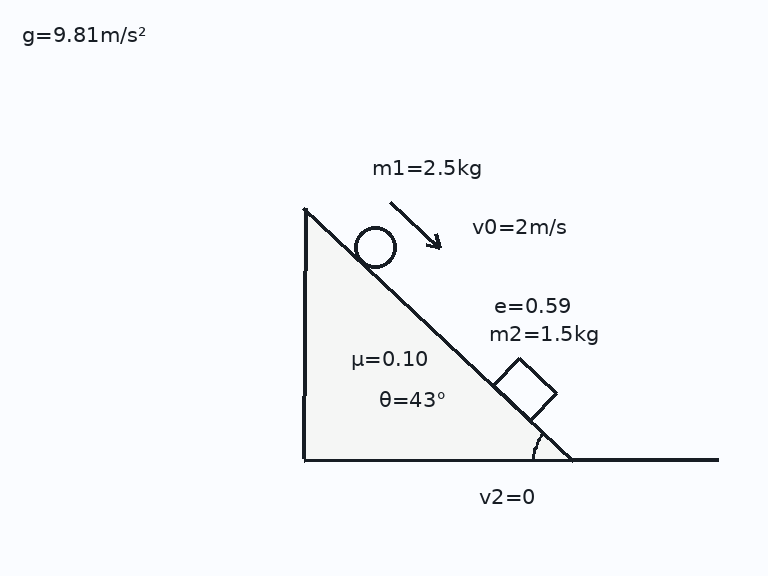ball: (352, 224, 398, 270)
block: (491, 356, 558, 422)
ramp: (301, 206, 575, 462)
